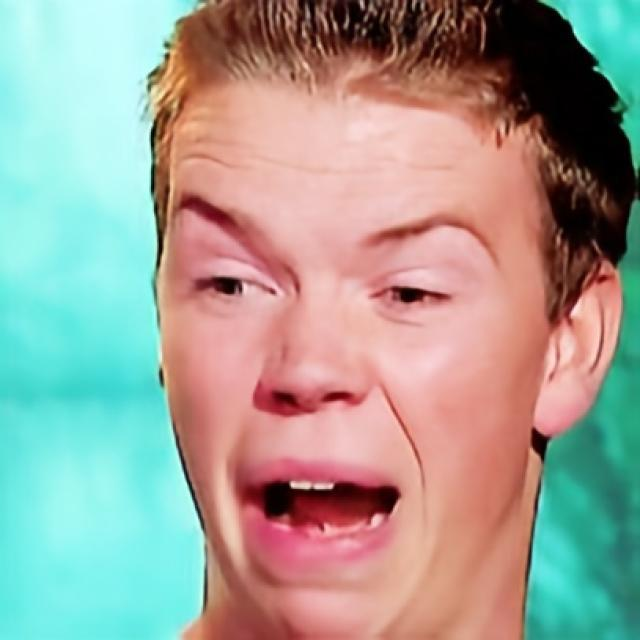fear: (162, 97, 541, 640)
